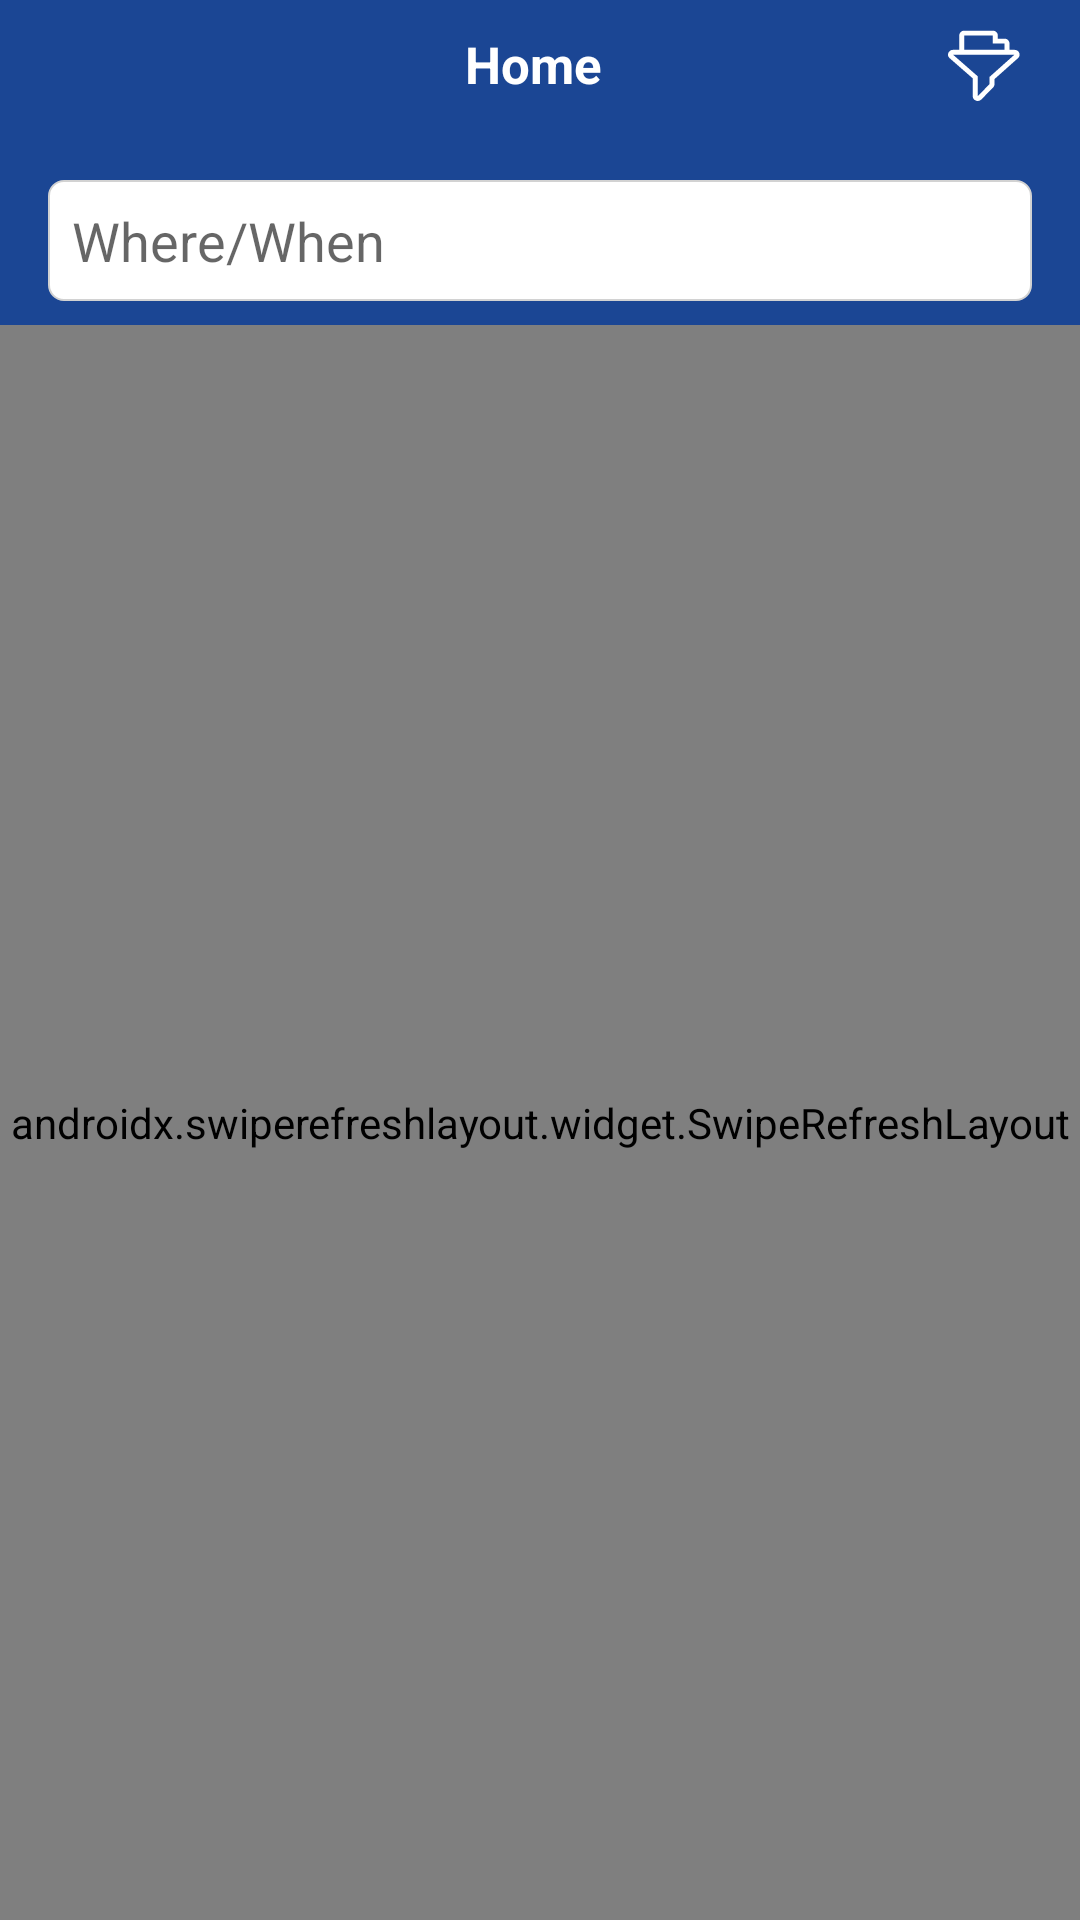

Screen size 1080 × 1920. Icon name, then its box in pixels as box(x1, y1, x2, y2):
filter: box(948, 30, 1020, 101)
